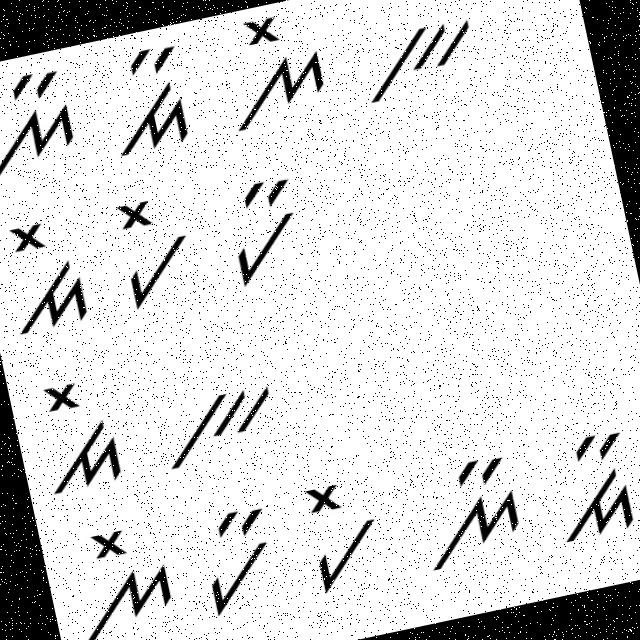dan: (94, 38, 207, 170), (534, 418, 639, 552)
do: (23, 362, 134, 502), (0, 210, 94, 341)
nan: (410, 446, 533, 582), (0, 62, 90, 194)
no: (212, 0, 341, 135), (58, 515, 184, 639)
pan: (185, 492, 286, 622), (212, 171, 312, 288)
po: (290, 466, 392, 600), (102, 188, 202, 313)
